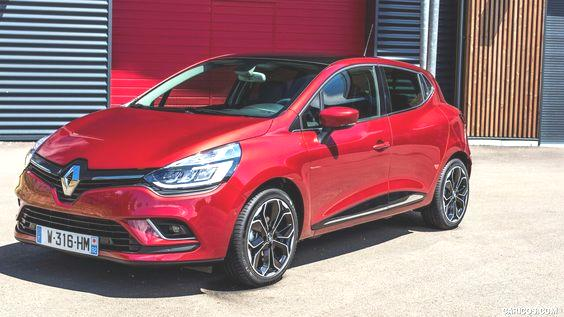Renault: (55, 161, 87, 200)
